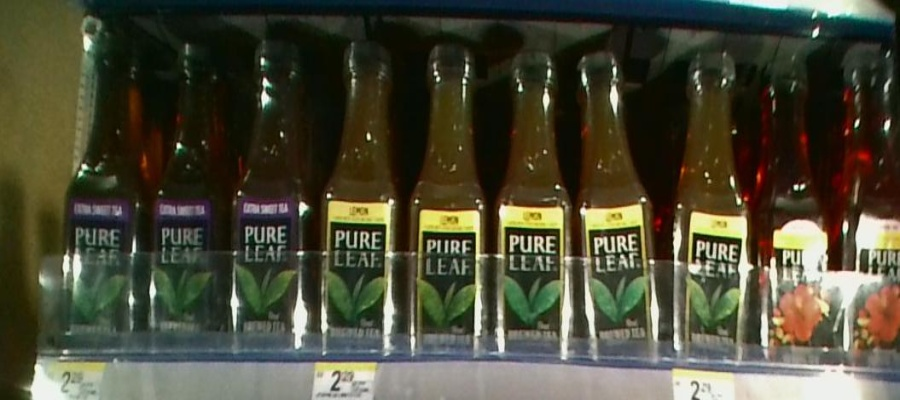bottle: (573, 45, 665, 356), (229, 23, 313, 348), (409, 23, 492, 348), (670, 42, 752, 357), (322, 29, 400, 360), (64, 38, 145, 351), (149, 29, 225, 352), (757, 50, 834, 360), (497, 36, 572, 353), (841, 37, 899, 365)
